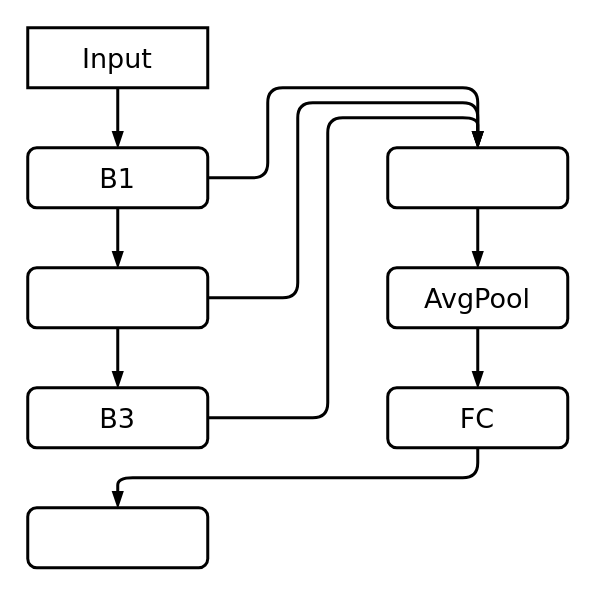
The diagram is 594 pixels wide and 594 high, and some of its shapes have lost their labels. The shapes that lost their labels are listed below. From the top down, each one's centre as x and y in pixels, then its label:
At point (477, 177): "Zero Pad".
At point (117, 297): "B2".
At point (117, 537): "Exit".
